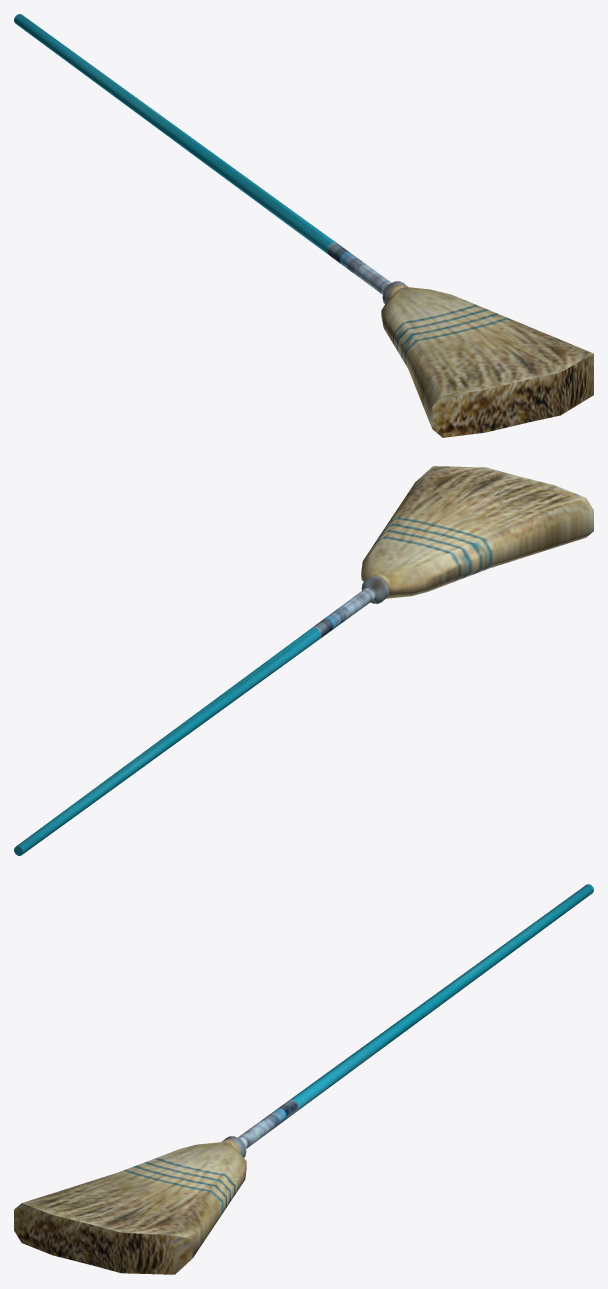
File: broom-1.FBX
The picture shows the model from 3 angles, top to bottom: view 1: azimuth 30°, elevation 25°; view 2: azimuth 150°, elevation 25°; view 3: azimuth 330°, elevation 25°; orthographic projection. The views are drawn at different scales.
Visible parts, largest first — view 1: broom-1; view 2: broom-1; view 3: broom-1.
Part boxes in pixels (bbox=[...]): broom-1: bbox=[14, 14, 593, 437]; broom-1: bbox=[14, 466, 593, 855]; broom-1: bbox=[14, 884, 593, 1274].
Bounding box in the file's own units: 13.18 × 3.12 × 68.23.
